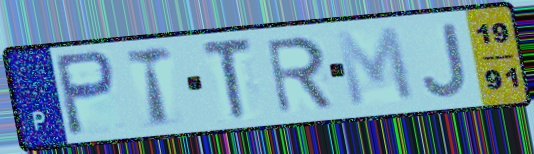J: (420, 20, 471, 100)
M: (332, 24, 420, 111)
P: (51, 48, 119, 138)
R: (262, 34, 337, 117)
T: (199, 34, 256, 124), (123, 43, 176, 130)
